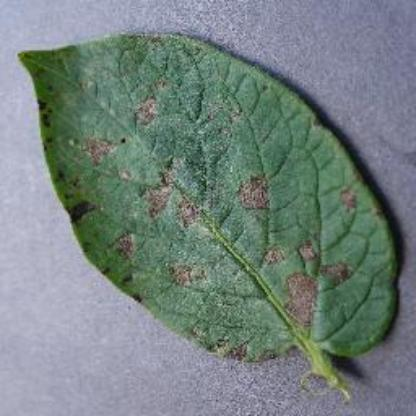Early-Blight: (13, 31, 405, 396)
